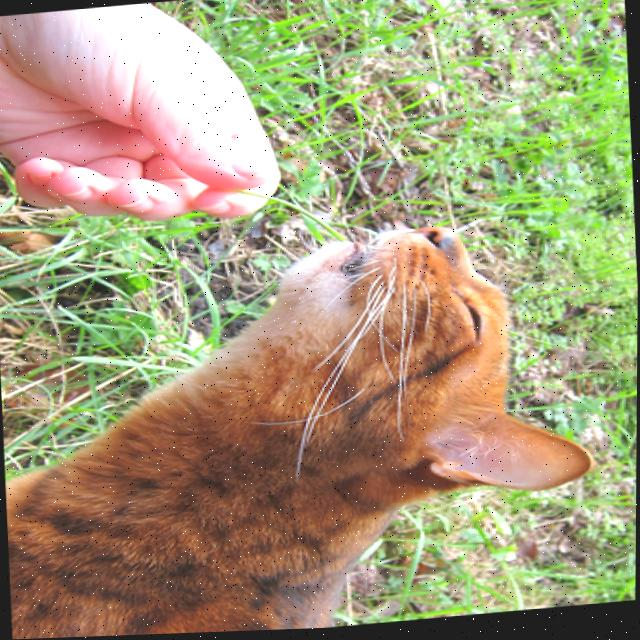Bengal: (0, 209, 610, 640)
